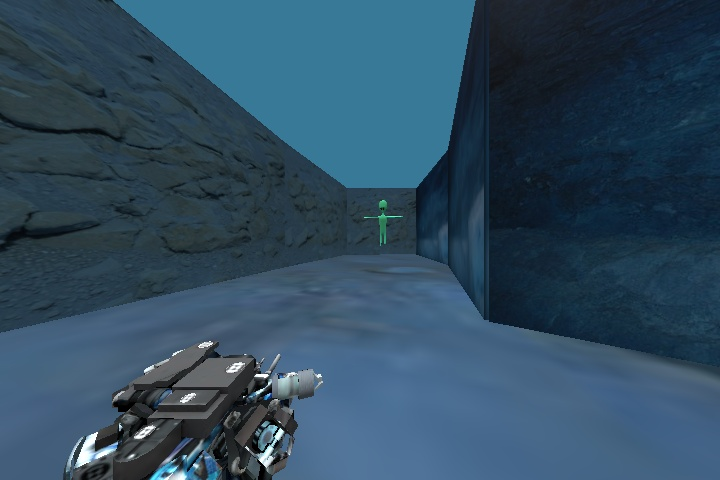green_alien: (354, 192, 408, 254)
